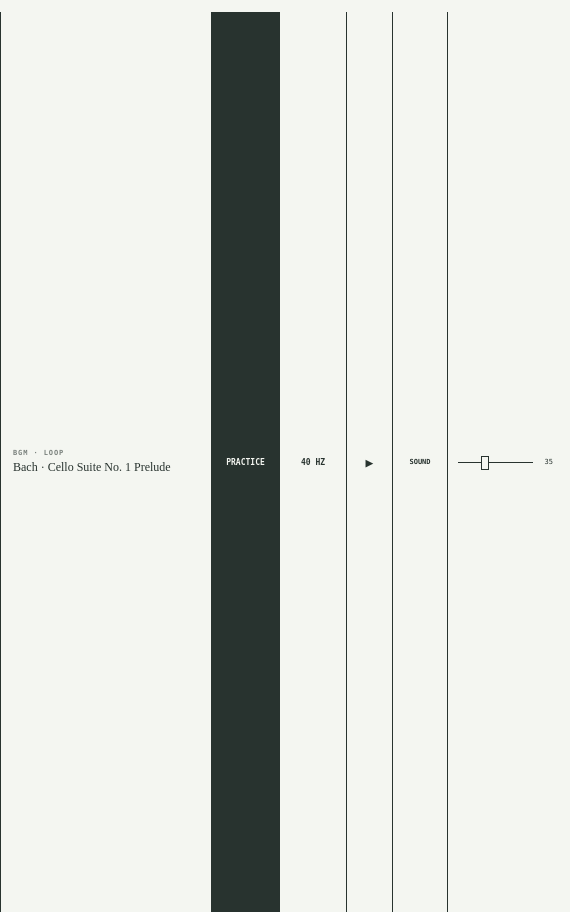
Scenario: BackgroundMusic › plays, switches modes, mutes, and changes volume
Later steps or results of the test are not shown.
Click the button named "Play background music": (369, 462) [346,12,392,911]
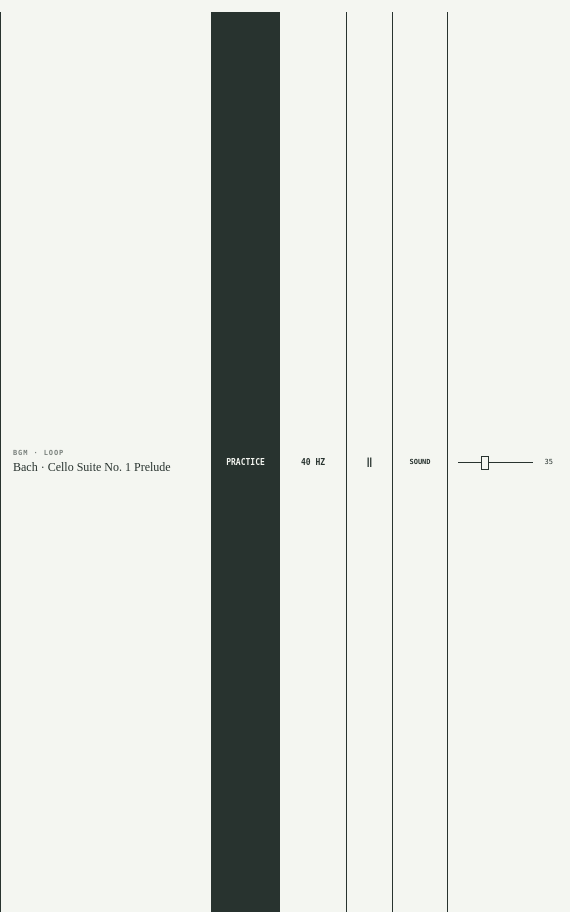
Expected: the button named "Pause background music" is shown, [346,12,392,911]
